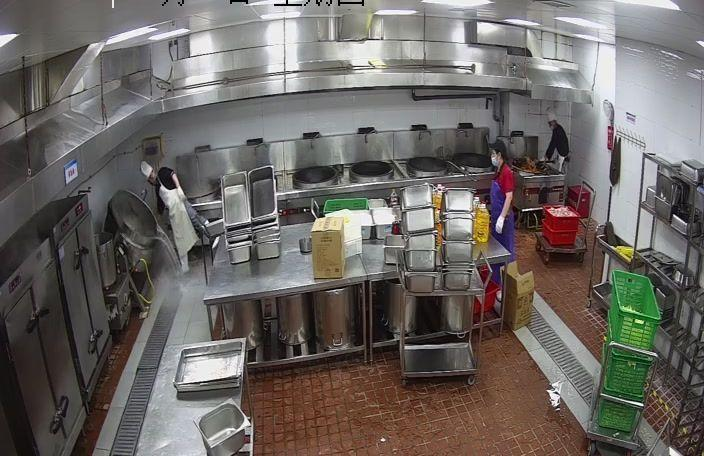apron: (494, 215, 506, 237)
mask: (489, 153, 502, 167)
